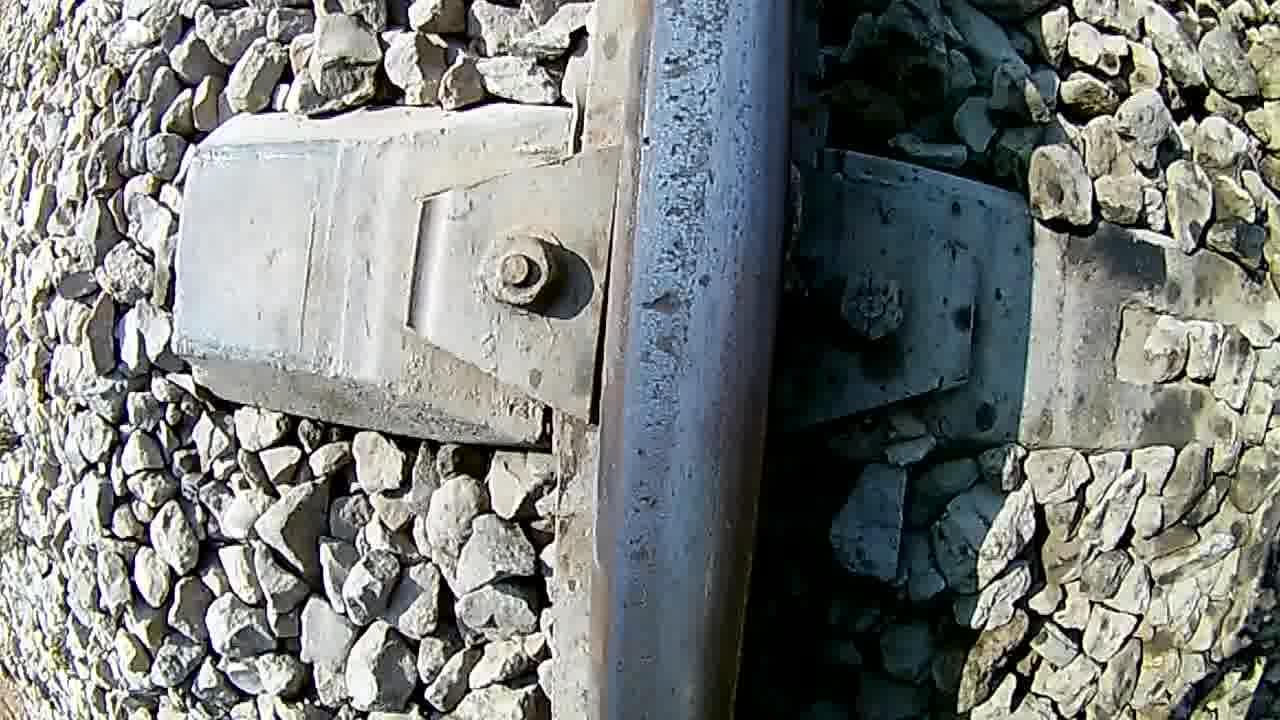crack: (610, 0, 791, 720)
